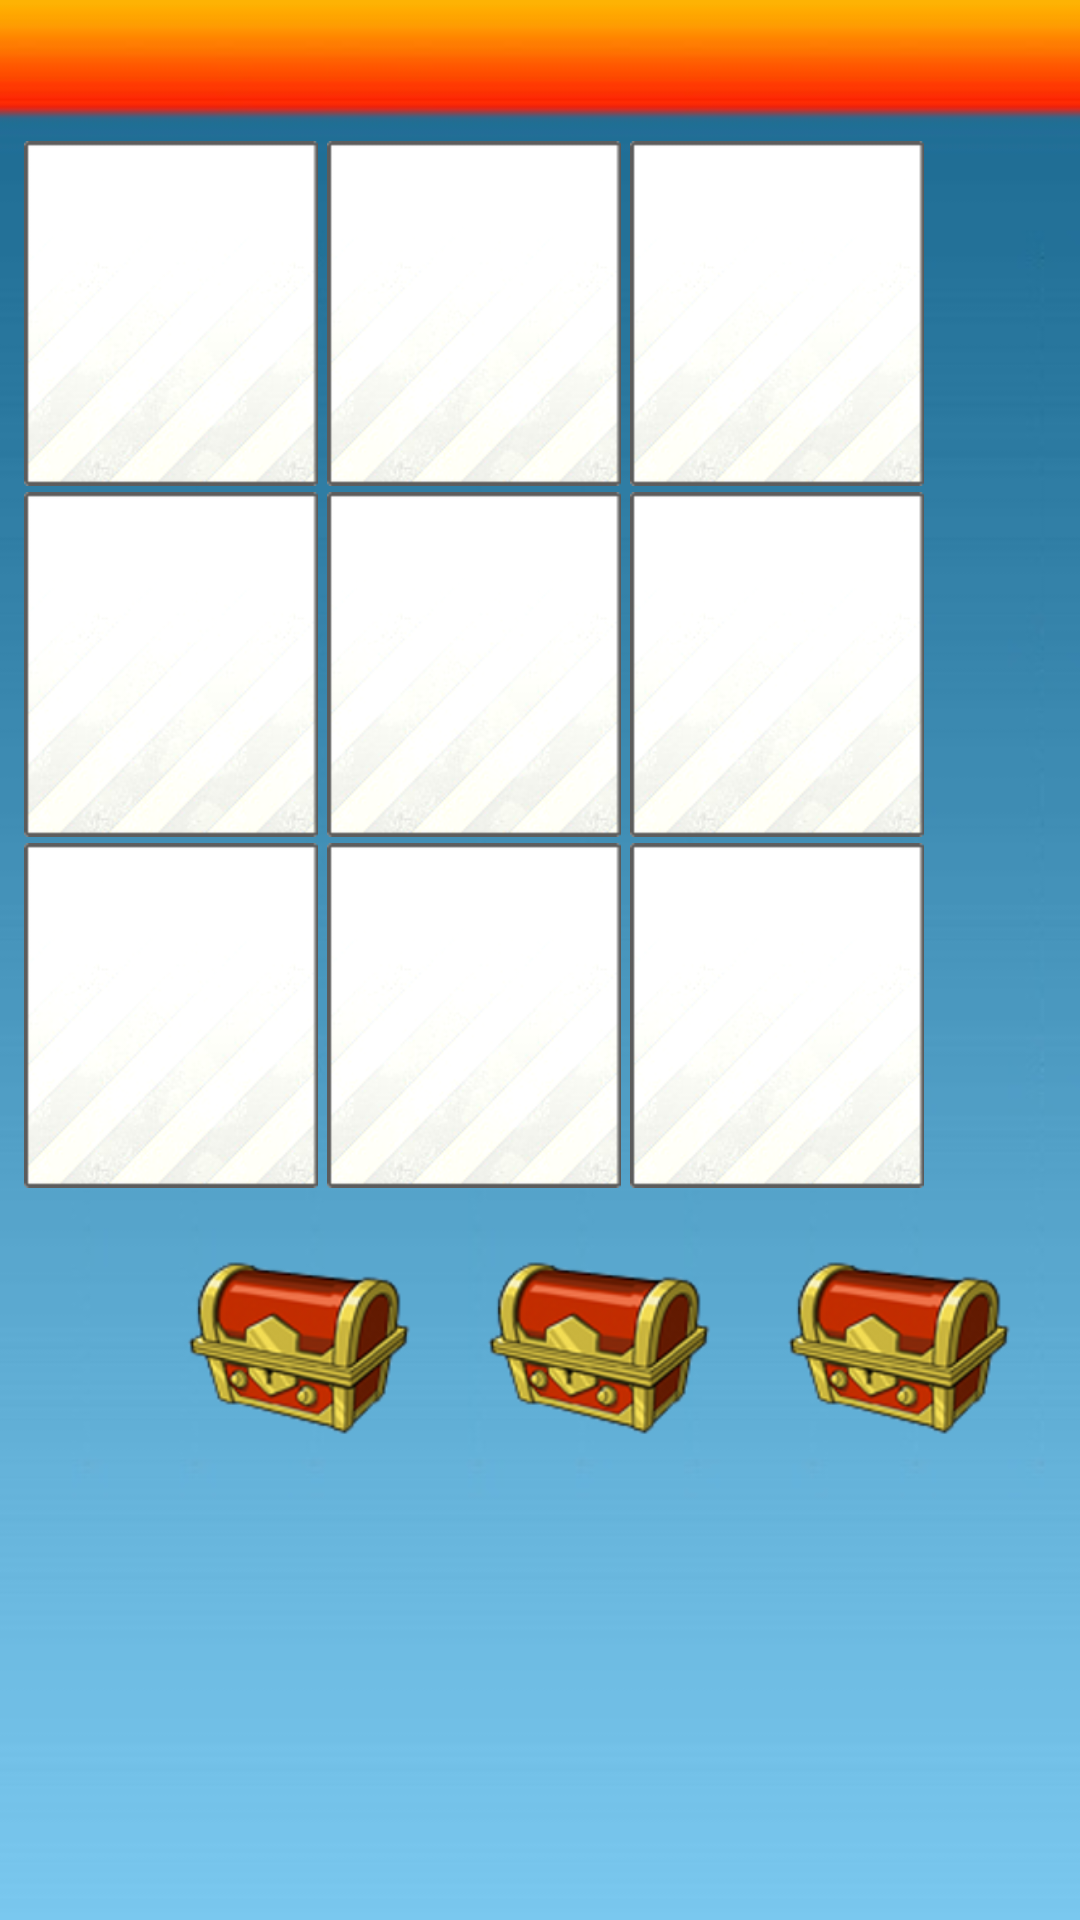

Screen size 1080*1920. Icon name, then its box in pixels as (x1, y1, x2, y2):
iconchest: (189, 1262, 409, 1434), (489, 1262, 709, 1434), (789, 1262, 1009, 1434)
